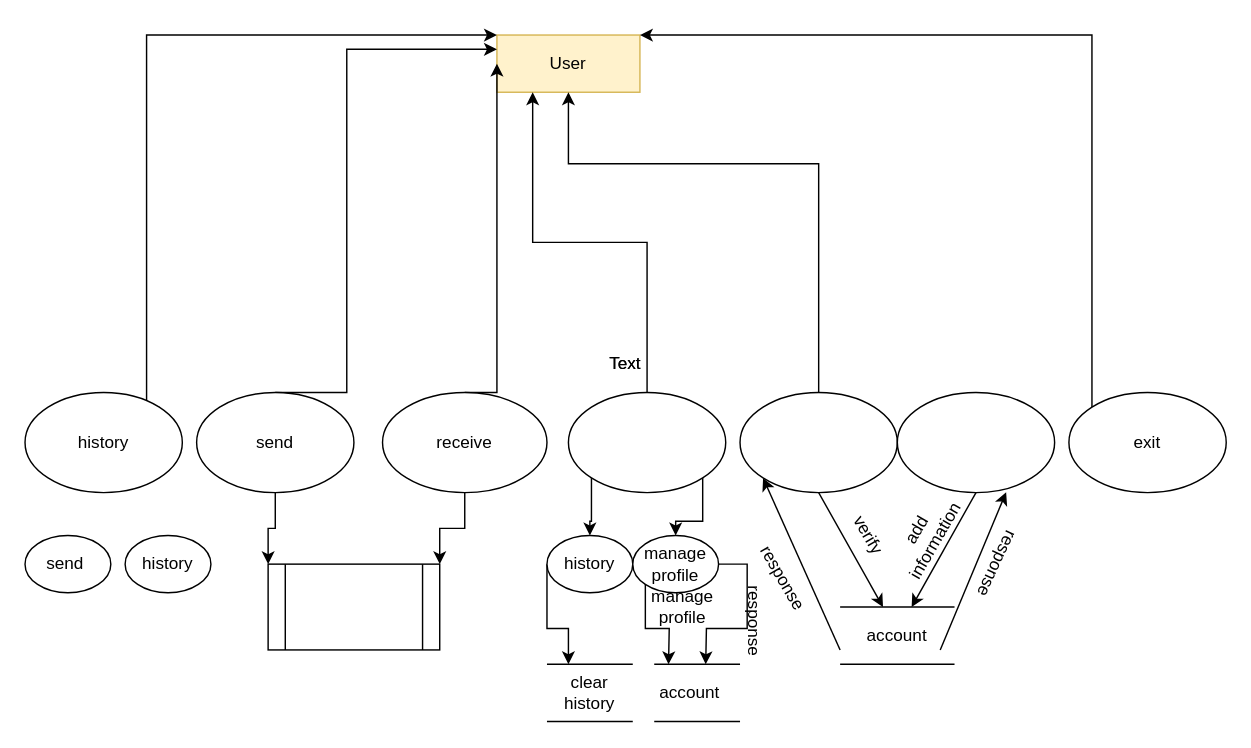
Image size: 1251x748. Some labels were removed from this diagram. Each missing label, with the centre of its shape:
connect device: the point at 353,606
login: the point at 818,442
register: the point at 975,442
setting: the point at 646,442
